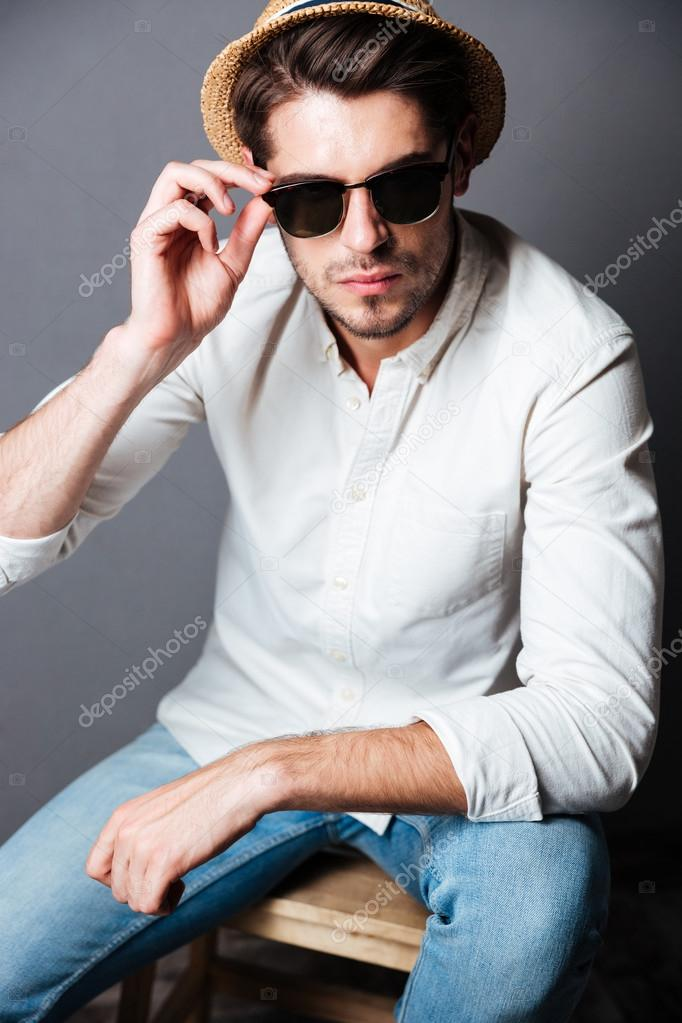glasses: (245, 148, 455, 238)
